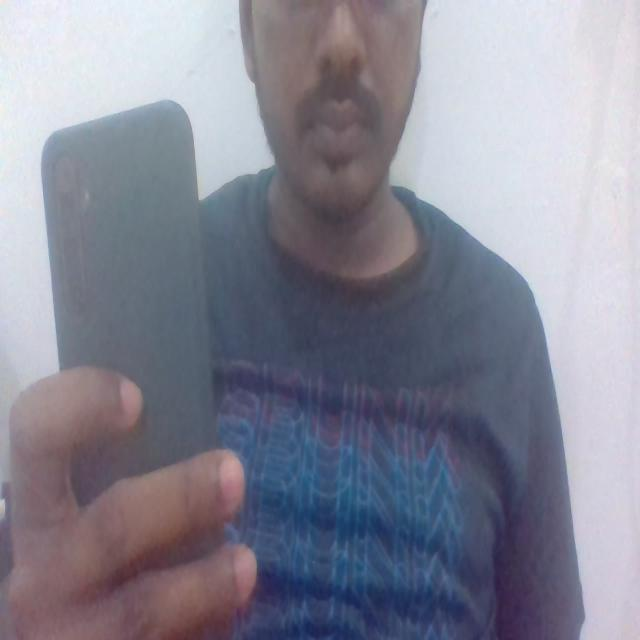Phone: (35, 97, 223, 500)
